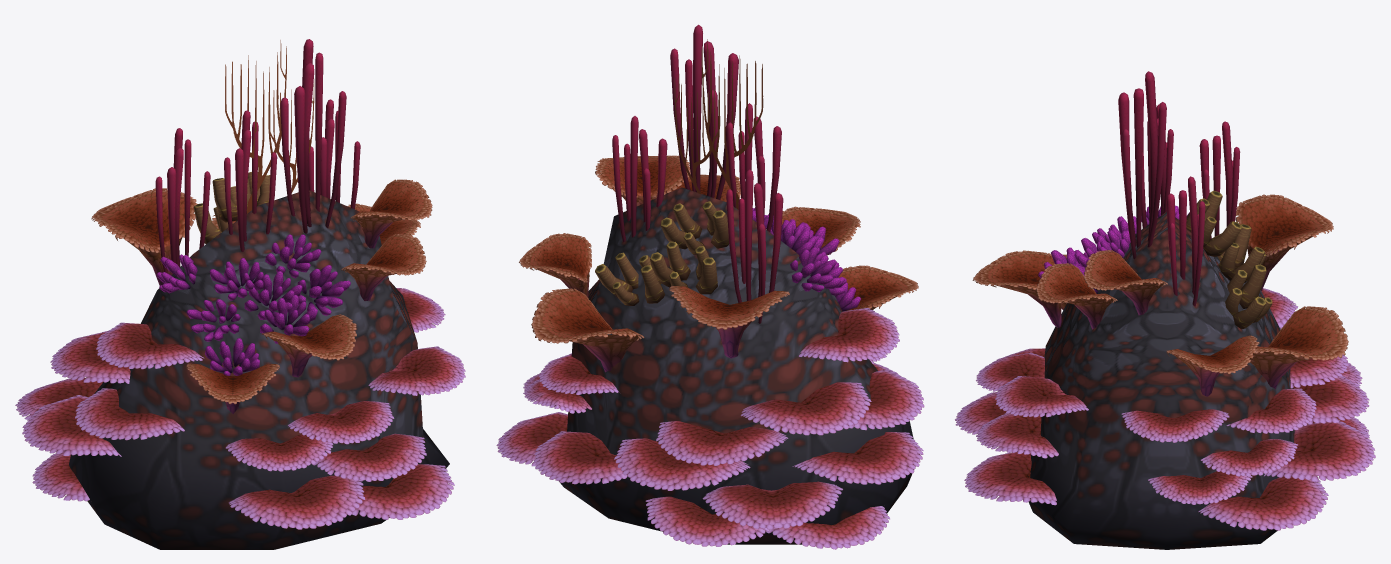
The model's file is CoralSet_10.FBX.
3 views of the same model, side by side, from view 1: azimuth 30°, elevation 25°; view 2: azimuth 150°, elevation 25°; view 3: azimuth 270°, elevation 25° (orthographic). The views are drawn at different scales.
Parts seen in each view (by area): view 1: Set_10, Set_10_Part24, Set_10_Part25, Set_10_Part23, Set_10_Part09, Set_10_Part20, Set_10_Part22, Set_10_Part08, Set_10_Part26, Set_10_Part12, Set_10_Part07, Set_10_Part21 (+13 smaller); view 2: Set_10, Set_10_Part25, Set_10_Part24, Set_10_Part23, Set_10_Part10, Set_10_Part20, Set_10_Part21, Set_10_Part09, Set_10_Part11, Set_10_Part22, Set_10_Part07, Set_10_Part13 (+9 smaller); view 3: Set_10, Set_10_Part25, Set_10_Part24, Set_10_Part23, Set_10_Part10, Set_10_Part09, Set_10_Part21, Set_10_Part08, Set_10_Part12, Set_10_Part26, Set_10_Part20, Set_10_Part11 (+5 smaller).
Part boxes in pixels (box(x1,y1,x2,y2)): Set_10: box(69, 190, 449, 549); Set_10_Part24: box(50, 288, 465, 471); Set_10_Part25: box(15, 378, 454, 529); Set_10_Part23: box(280, 39, 346, 233); Set_10_Part09: box(91, 188, 197, 285); Set_10_Part20: box(155, 128, 210, 273); Set_10_Part22: box(224, 110, 277, 251); Set_10_Part08: box(262, 314, 356, 377); Set_10_Part26: box(350, 179, 432, 248); Set_10_Part12: box(341, 234, 426, 300); Set_10_Part07: box(186, 363, 279, 413); Set_10_Part21: box(308, 99, 360, 209); Set_10: box(559, 187, 913, 544); Set_10_Part25: box(496, 363, 923, 549); Set_10_Part24: box(538, 307, 924, 465); Set_10_Part23: box(670, 24, 738, 199); Set_10_Part10: box(531, 288, 644, 372); Set_10_Part20: box(726, 169, 783, 323); Set_10_Part21: box(612, 116, 667, 242); Set_10_Part09: box(668, 286, 789, 358); Set_10_Part11: box(519, 233, 591, 297); Set_10_Part22: box(726, 103, 781, 231); Set_10_Part07: box(838, 265, 918, 311); Set_10_Part13: box(661, 201, 728, 254); Set_10: box(1028, 211, 1303, 549); Set_10_Part25: box(955, 362, 1375, 530); Set_10_Part24: box(976, 288, 1348, 442); Set_10_Part23: box(1118, 71, 1166, 258); Set_10_Part10: box(1249, 306, 1348, 389); Set_10_Part09: box(1235, 194, 1333, 290); Set_10_Part21: box(1166, 176, 1205, 306); Set_10_Part08: box(972, 250, 1061, 327); Set_10_Part12: box(1036, 263, 1117, 329); Set_10_Part26: box(1083, 250, 1167, 315); Set_10_Part20: box(1199, 121, 1240, 238); Set_10_Part11: box(1166, 335, 1259, 396).
Bounding box in the file's own units: 82.77 × 93.46 × 78.66.
